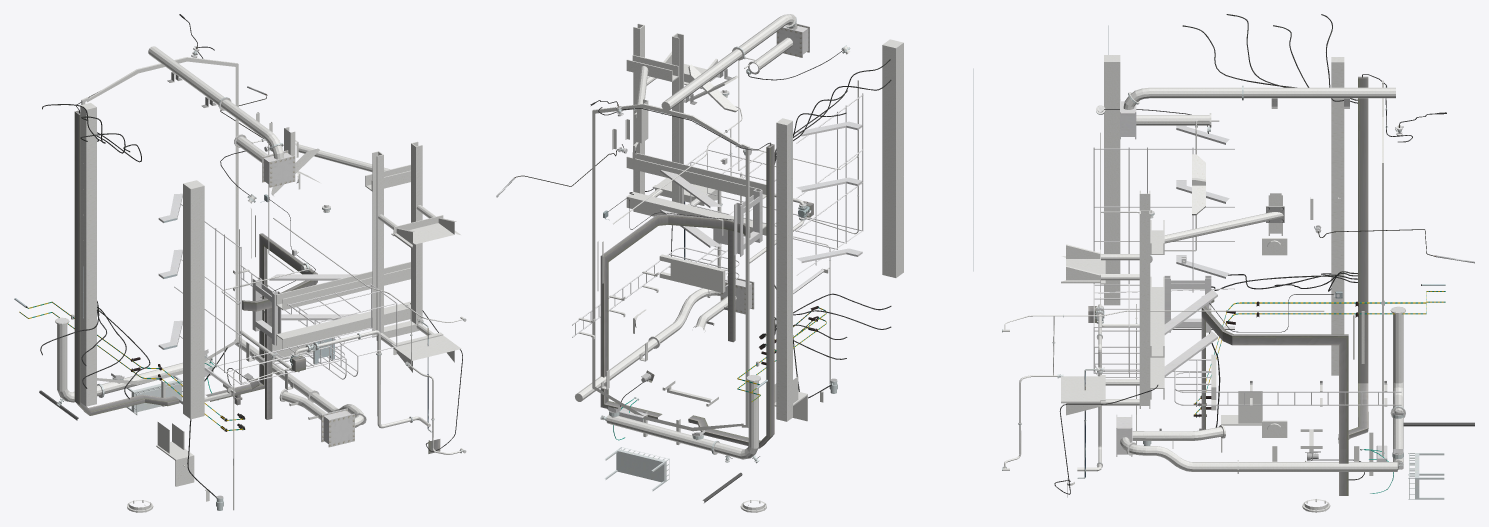
The model's file is peijian110-geode.glb.
3 renders of one model, left to right at view 1: azimuth 30°, elevation 25°; view 2: azimuth 150°, elevation 25°; view 3: azimuth 270°, elevation 25°, orthographic. The views are drawn at different scales.
Visible parts, largest first — view 1: Node; view 2: Node; view 3: Node.
Part boxes in pixels (bbox=[...]): Node: bbox=[14, 14, 466, 512]; Node: bbox=[496, 14, 973, 512]; Node: bbox=[1002, 14, 1474, 512].
Size of the model in its own units: 7.28 by 9.14 by 8.74.
25 materials, 25 textured.
